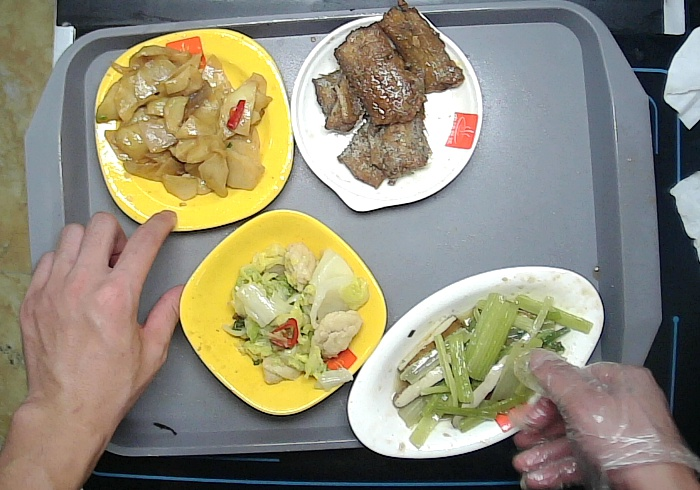SHKJ-Bao_Yu_Pan: (291, 10, 484, 214)
SHKJ-Huang_Se_Cai_Die: (182, 209, 386, 417)
SHKJ-Huang_Se_Si_Fang_Cai_Die: (93, 28, 294, 232)
SHKJ-Yu_Pan: (345, 266, 606, 459)
